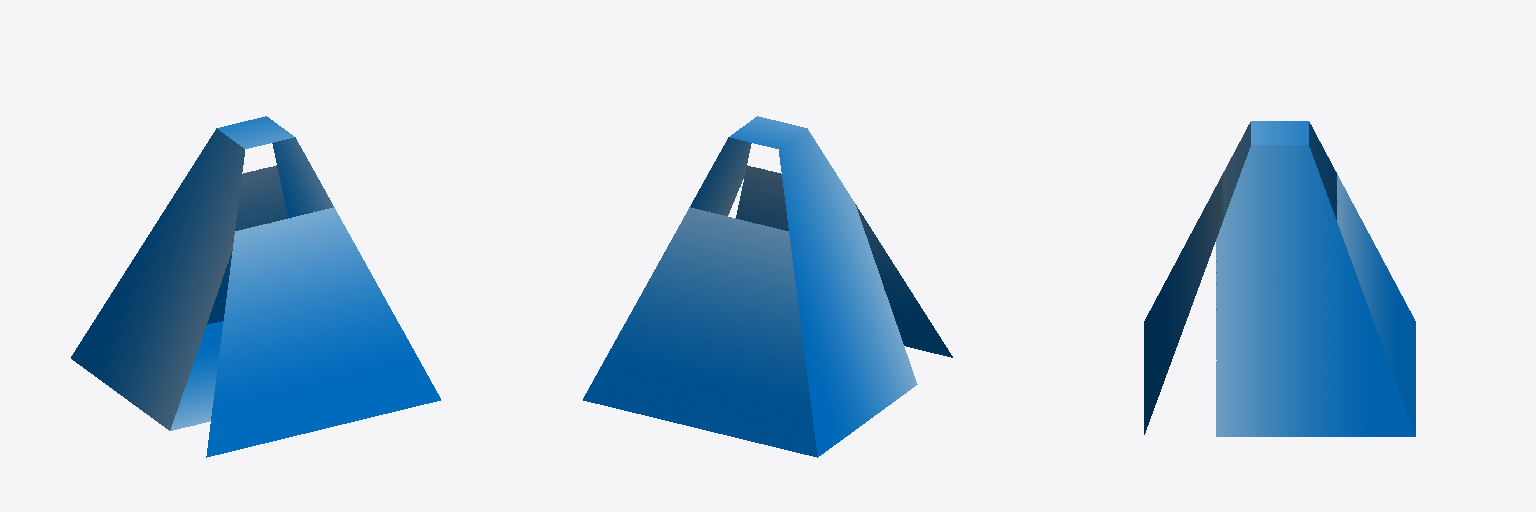
3 renders of one model, left to right at view 1: azimuth 30°, elevation 25°; view 2: azimuth 150°, elevation 25°; view 3: azimuth 270°, elevation 25°, orthographic.
Parts seen in each view (by area): view 1: Cube.001; view 2: Cube.001; view 3: Cube.001.
Boxes of the visible parts, <box> form: Cube.001: <box>71,116,440,457</box>; Cube.001: <box>583,116,952,457</box>; Cube.001: <box>1144,121,1415,436</box>.
Size of the model in its own units: 2 by 2 by 2.
Materials: 1 (1 with a texture image).